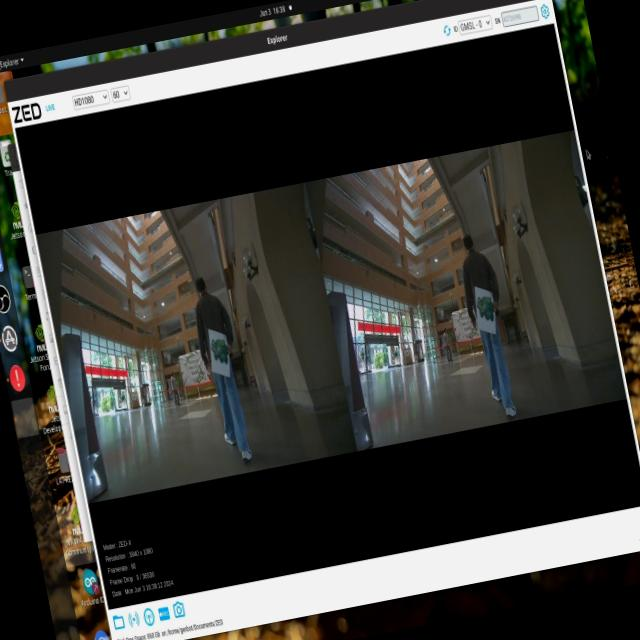green: (200, 330, 240, 380), (476, 290, 510, 336)
